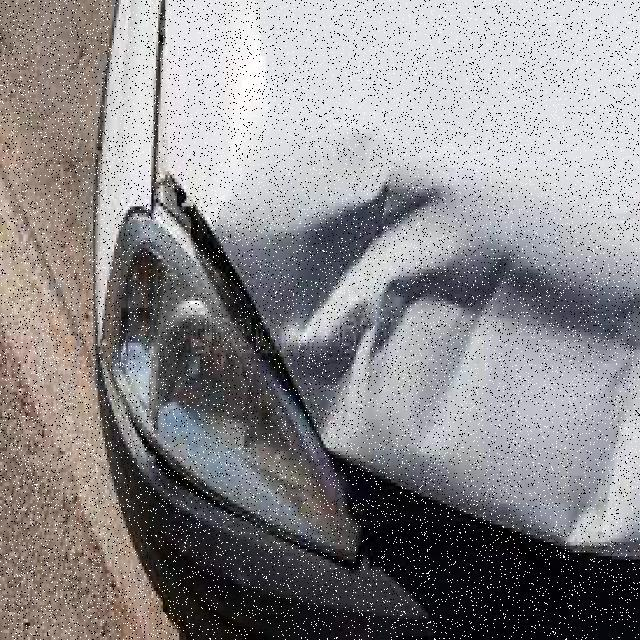bonnet-dent: (156, 0, 636, 465)
